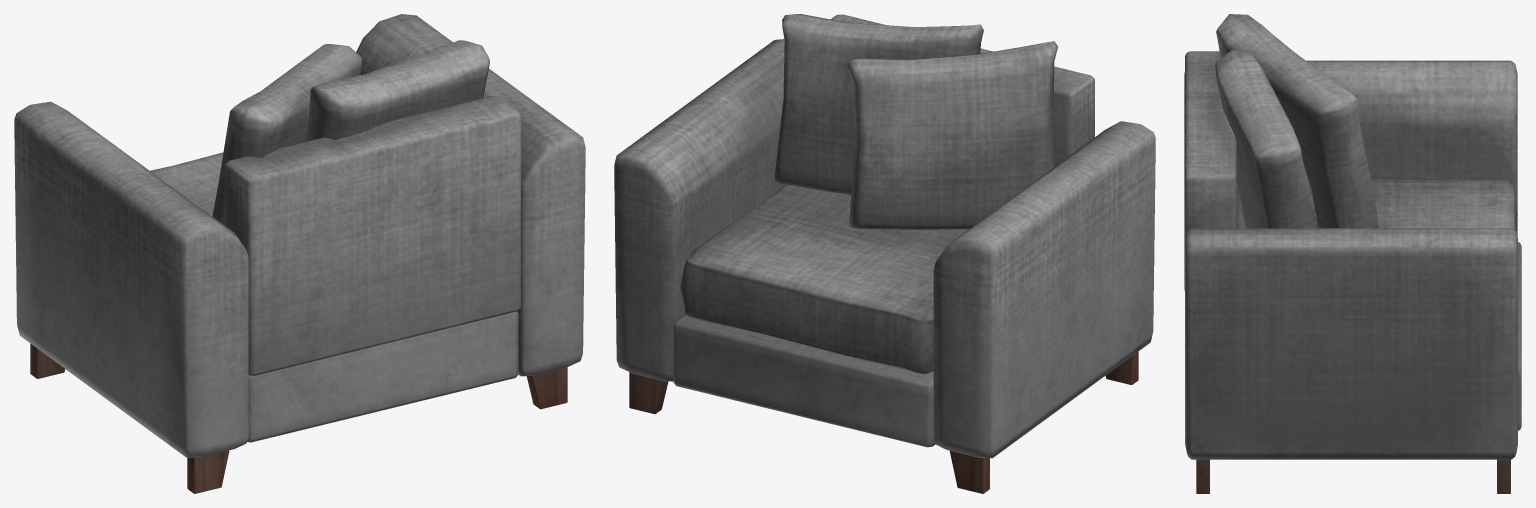
Rendered from Sofa 1.FBX.
3 renders of one model, left to right at view 1: azimuth 30°, elevation 25°; view 2: azimuth 150°, elevation 25°; view 3: azimuth 270°, elevation 25°, orthographic. The views are drawn at different scales.
Visible parts, largest first — view 1: Sofa 1; view 2: Sofa 1; view 3: Sofa 1.
Part boxes in pixels (<box>): Sofa 1: <box>14,14,585,493</box>; Sofa 1: <box>614,14,1155,493</box>; Sofa 1: <box>1184,14,1521,493</box>.
Bounding box in the file's own units: 146 × 122 × 110.
